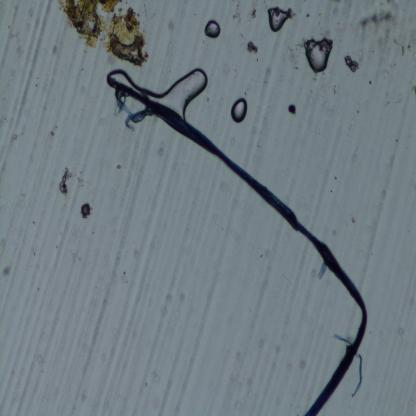Air bubble: (154, 66, 210, 113), (304, 36, 334, 76), (103, 66, 133, 88), (267, 7, 290, 32), (230, 96, 249, 124), (204, 17, 222, 41)
Background material: (106, 10, 152, 68), (60, 0, 122, 41), (358, 3, 395, 30), (57, 163, 74, 195), (6, 31, 24, 56), (159, 293, 173, 318), (290, 40, 302, 68), (344, 54, 360, 74), (154, 137, 166, 160), (378, 30, 394, 46), (79, 201, 92, 220), (263, 65, 275, 84), (246, 40, 262, 54), (232, 6, 243, 24), (0, 260, 11, 277), (10, 128, 22, 142), (48, 124, 59, 139), (167, 16, 175, 34), (249, 7, 259, 21), (152, 370, 162, 383), (72, 250, 82, 262), (298, 359, 308, 371), (50, 45, 60, 56), (290, 104, 298, 117), (396, 327, 406, 337), (408, 294, 414, 310), (348, 214, 356, 226), (400, 45, 408, 56), (410, 83, 416, 93), (121, 268, 127, 278), (384, 100, 390, 108), (407, 43, 412, 51), (116, 162, 121, 170), (306, 13, 311, 19), (32, 219, 37, 225), (334, 175, 338, 181), (369, 80, 373, 85)
Cotton: (105, 79, 369, 416)
